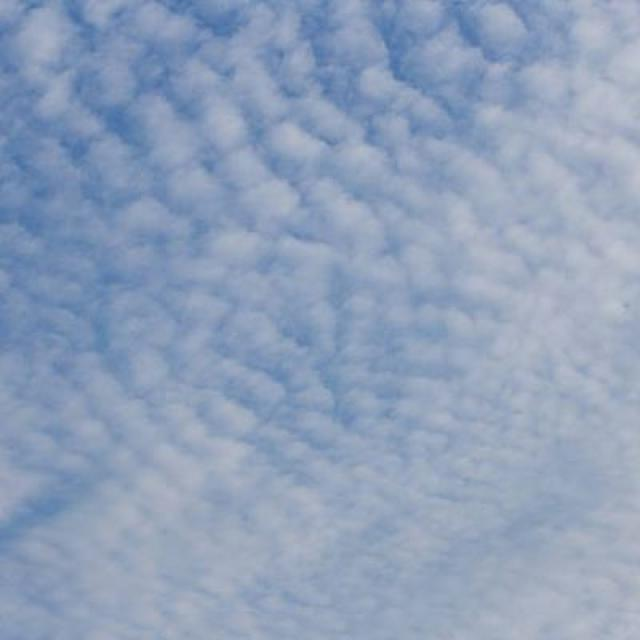Cc: (1, 44, 611, 566)
